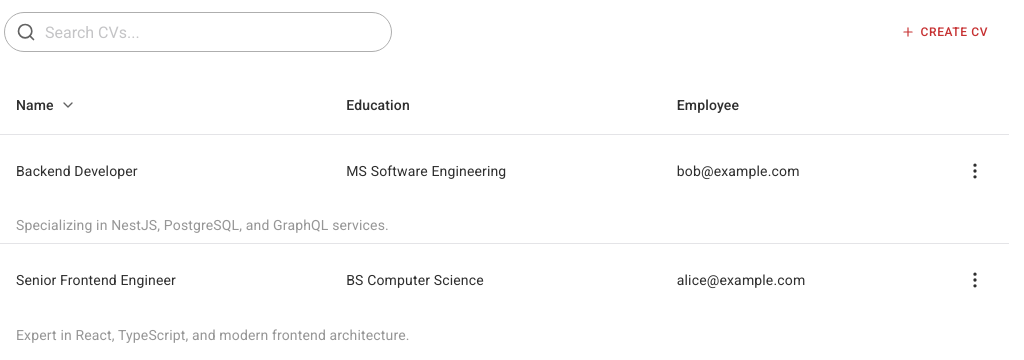
CVTable Component › filters CVs when searching by email
The image size is (1024, 360).
Type "bob@" into the field with placeholder "Search CVs...". click: x=198, y=32
box: [4, 12, 392, 52]
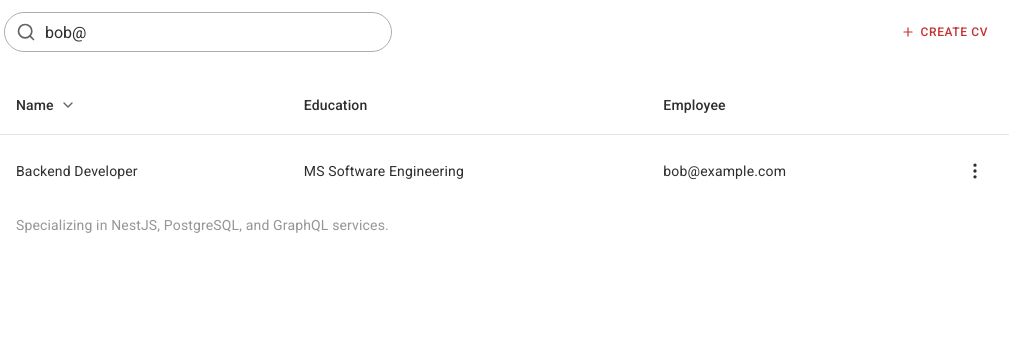
Expected: the text "Backend Developer" is shown, [0, 134, 288, 207]
Now the text "Senior Frontend Engineer" is gone
